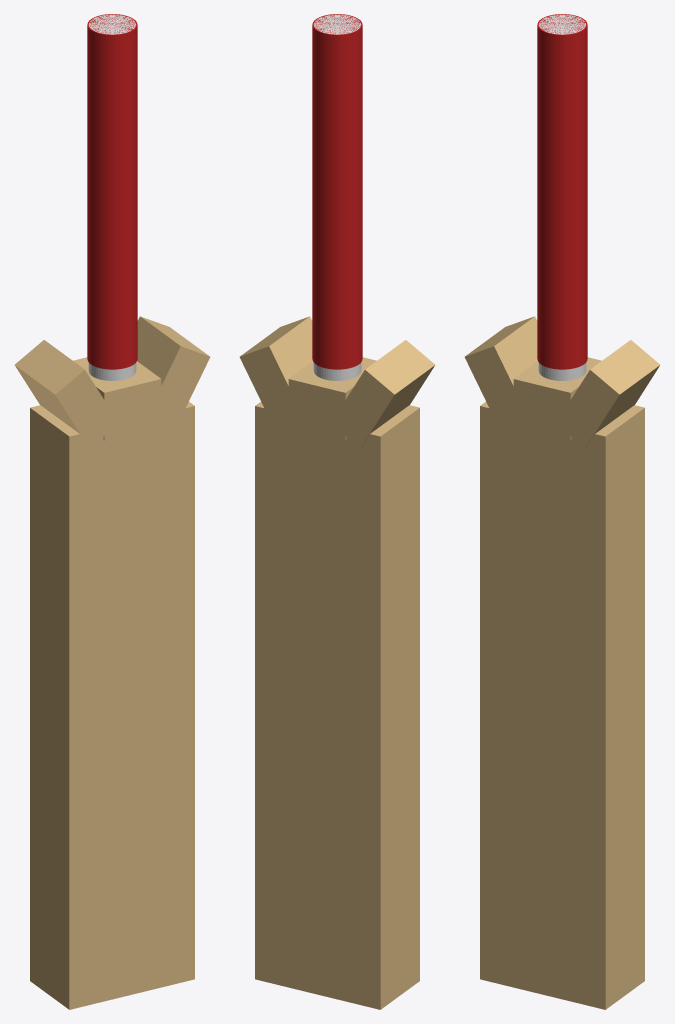
Rendered from ai_parts_c3e4f7.glb.
3 renders of one model, left to right at view 1: azimuth 30°, elevation 25°; view 2: azimuth 150°, elevation 25°; view 3: azimuth 330°, elevation 25°, orthographic.
Parts seen in each view (by area): view 1: 00_blade, 02_grip, 03_shoulder_left, 04_shoulder_right, 05_center_taper, 01_handle; view 2: 00_blade, 02_grip, 03_shoulder_left, 04_shoulder_right, 05_center_taper, 01_handle; view 3: 00_blade, 02_grip, 04_shoulder_right, 03_shoulder_left, 05_center_taper, 01_handle.
Boxes of the visible parts, box(x1,y1,x2,y2) form: 00_blade: box(30, 402, 194, 1009); 02_grip: box(87, 14, 137, 369); 03_shoulder_left: box(14, 340, 118, 448); 04_shoulder_right: box(137, 316, 210, 426); 05_center_taper: box(73, 357, 161, 440); 01_handle: box(88, 14, 136, 380); 00_blade: box(255, 402, 419, 1009); 02_grip: box(312, 14, 362, 369); 03_shoulder_left: box(331, 340, 435, 448); 04_shoulder_right: box(239, 316, 312, 426); 05_center_taper: box(288, 357, 376, 440); 01_handle: box(313, 14, 361, 380); 00_blade: box(480, 402, 644, 1009); 02_grip: box(537, 14, 587, 369); 04_shoulder_right: box(556, 340, 660, 448); 03_shoulder_left: box(464, 316, 537, 426); 05_center_taper: box(513, 357, 601, 440); 01_handle: box(538, 14, 586, 380).
Size of the model in its own units: 13.6 by 80 by 6.2.
